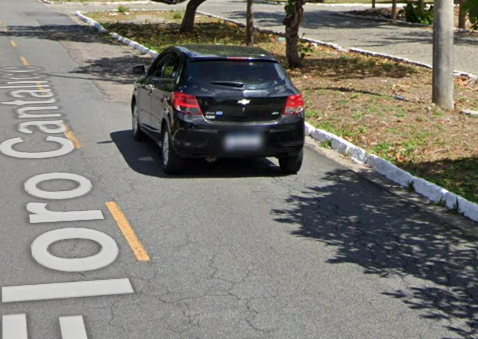car: (127, 36, 306, 183)
